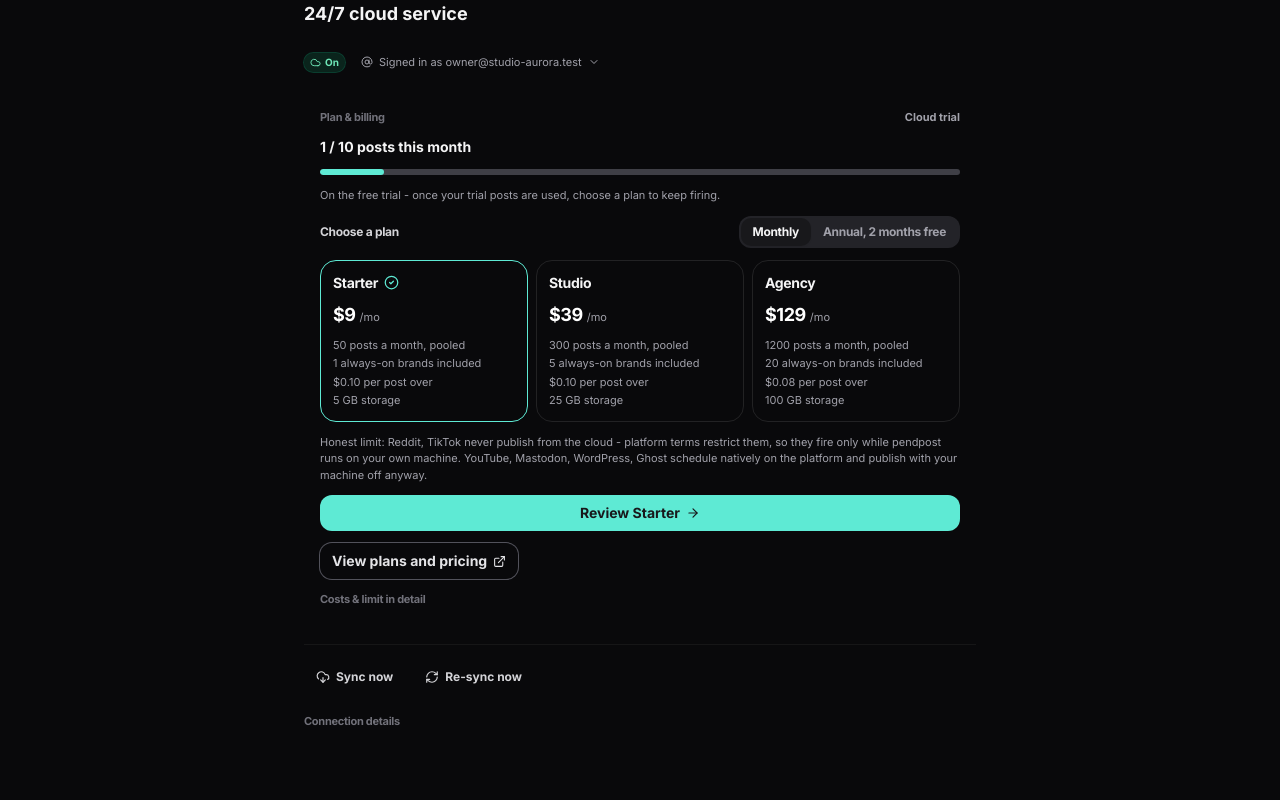
Cloud › CONNECTED: an eject error renders an alert banner
This screenshot has width=1280, height=800.
Click the button with aria-label "account menu for" at (480,62), box [355, 52, 606, 72]
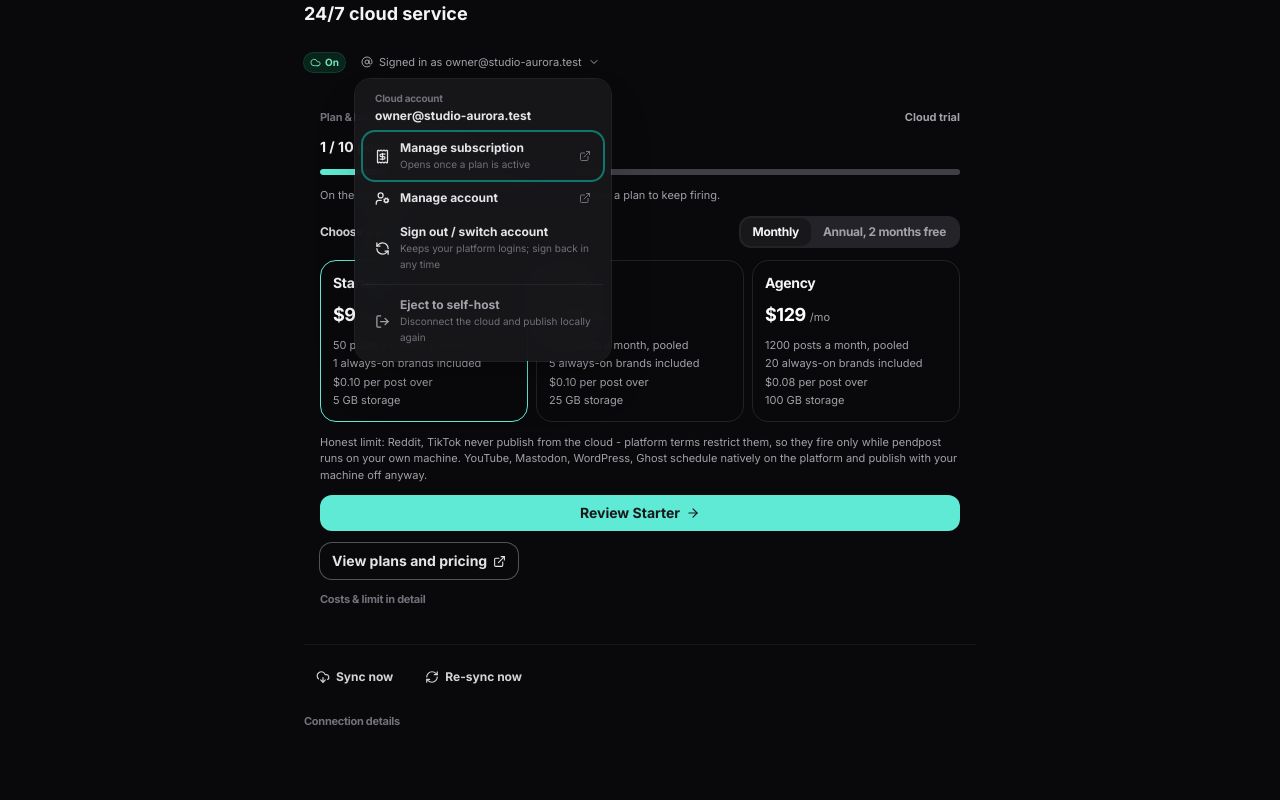
Click the button "Eject to self-host" at (483,321), box [363, 289, 603, 353]
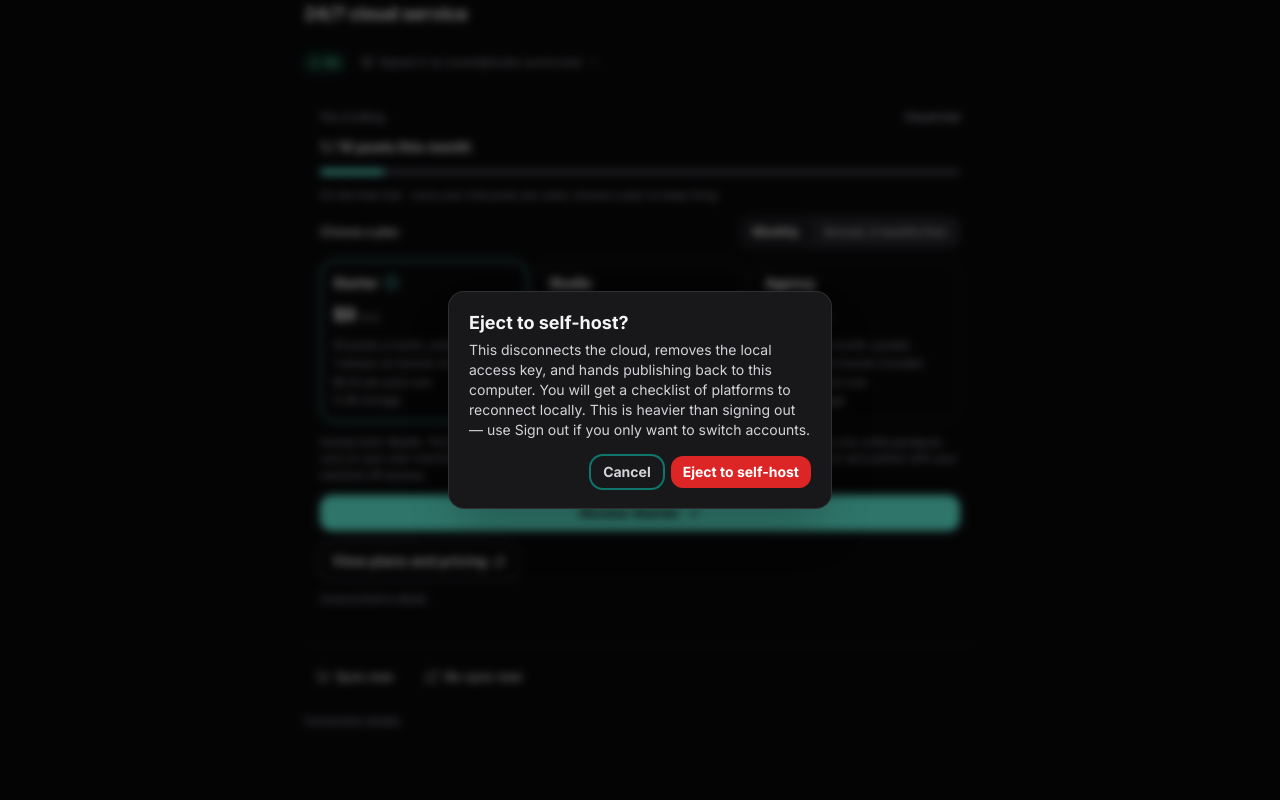
expect the heading "Eject to self-host?" is shown: met, box [469, 312, 629, 333]
Click the button "Eject to self-host" at (741,472), box [671, 456, 811, 488]
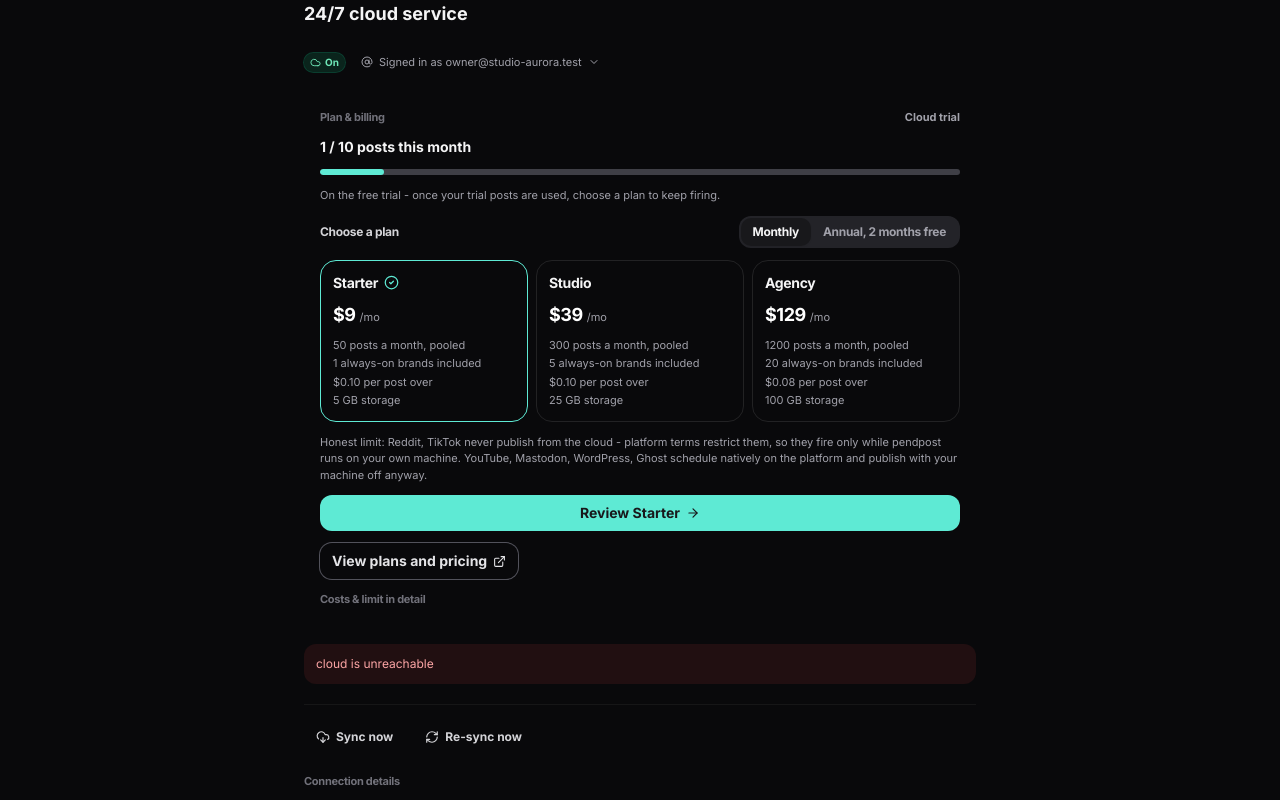
expect the message reads "cloud is unreachable": met, box [316, 656, 434, 670]
